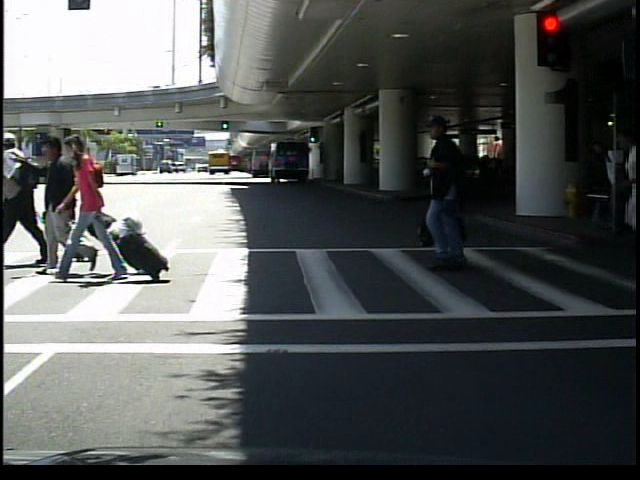person: (410, 113, 497, 271)
